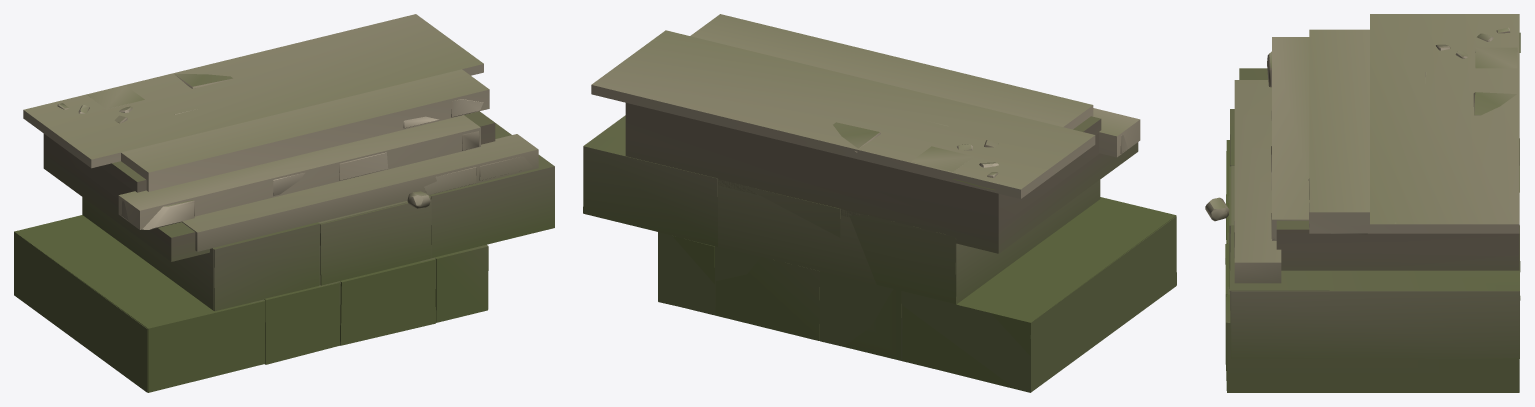
File: podium.glb
The picture shows the model from 3 angles, left to right: view 1: azimuth 30°, elevation 25°; view 2: azimuth 150°, elevation 25°; view 3: azimuth 270°, elevation 25°; orthographic projection. The views are drawn at different scales.
Visible parts, largest first — view 1: podium_far, podium; view 2: podium_far, podium; view 3: podium_far, podium.
Boxes of the visible parts, x1,y1,x2,y2 form: podium_far: (14,14,554,392); podium: (14,55,554,392); podium_far: (583,14,1176,392); podium: (583,39,1176,392); podium_far: (1227,14,1519,392); podium: (1205,28,1520,392).
Size of the model in its own units: 22.2 by 9.67 by 13.51.
